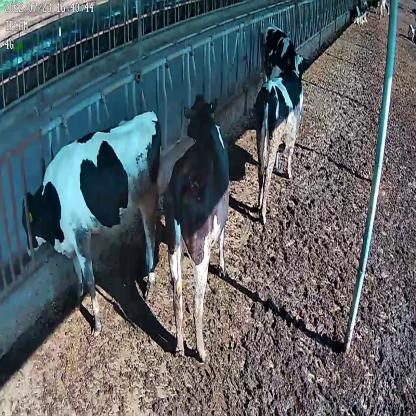cow: (21, 106, 164, 333), (164, 93, 232, 362), (253, 51, 311, 222), (260, 26, 308, 82)
